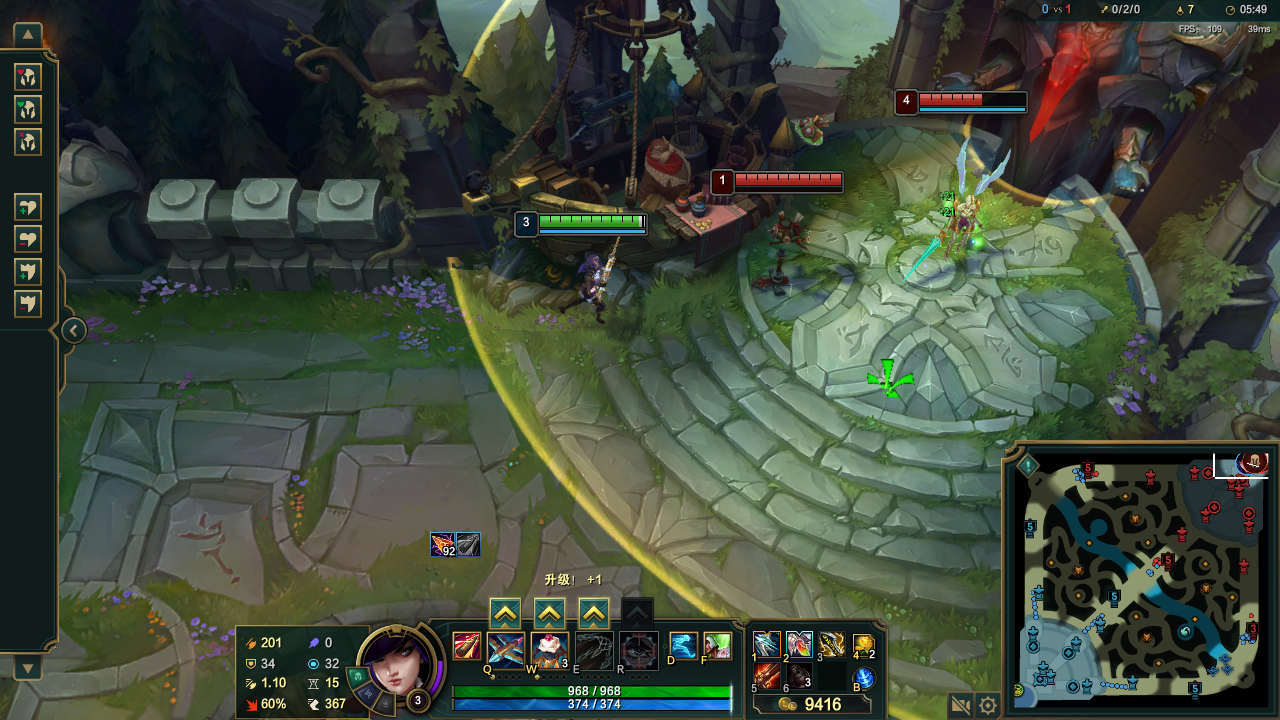DFYX: (917, 92, 1030, 105), (734, 172, 842, 183)
